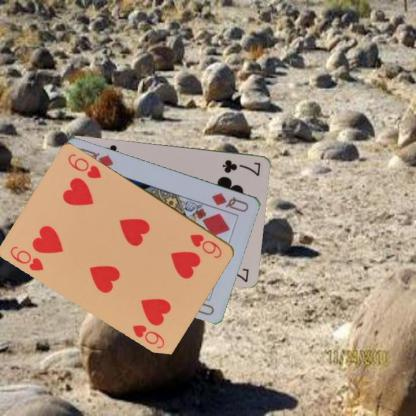6h: (187, 231, 224, 260), (8, 243, 45, 272)
7c: (220, 156, 262, 178)
Qd: (209, 190, 250, 213)
